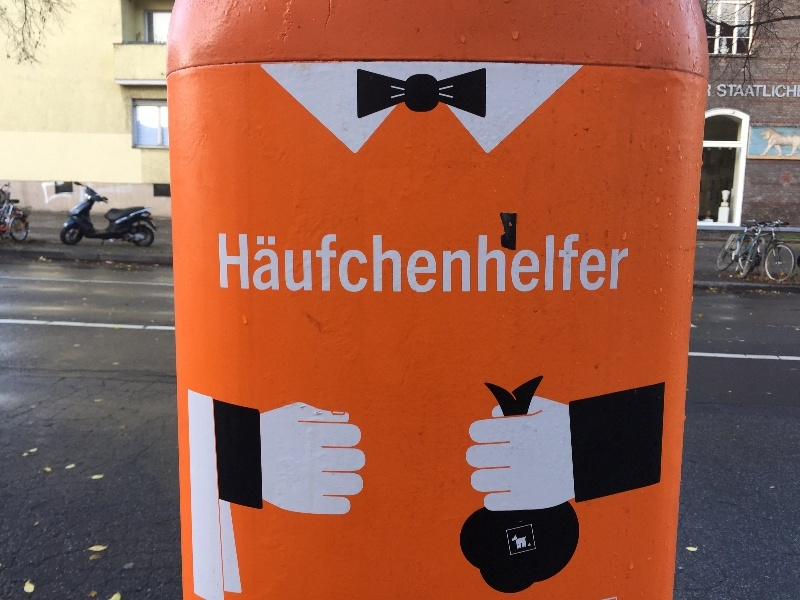text: (225, 235, 240, 293), (241, 235, 256, 293), (257, 235, 272, 293), (273, 235, 288, 293), (289, 235, 304, 293), (305, 235, 320, 293), (321, 235, 336, 293), (337, 235, 352, 293), (353, 235, 368, 293), (369, 235, 384, 293), (385, 235, 400, 293), (401, 235, 416, 293), (417, 235, 432, 293), (433, 235, 448, 293), (449, 235, 464, 293), (465, 235, 480, 293), (481, 235, 496, 293), (497, 235, 512, 293), (513, 235, 528, 293), (529, 235, 544, 293), (545, 235, 560, 293), (561, 235, 576, 293), (577, 235, 592, 293), (593, 235, 608, 293), (609, 235, 624, 293), (625, 235, 633, 293), (219, 235, 224, 293), (721, 84, 736, 98), (737, 84, 752, 98), (753, 84, 768, 98), (769, 84, 784, 98), (785, 84, 800, 98), (708, 84, 720, 97), (717, 84, 720, 98)
